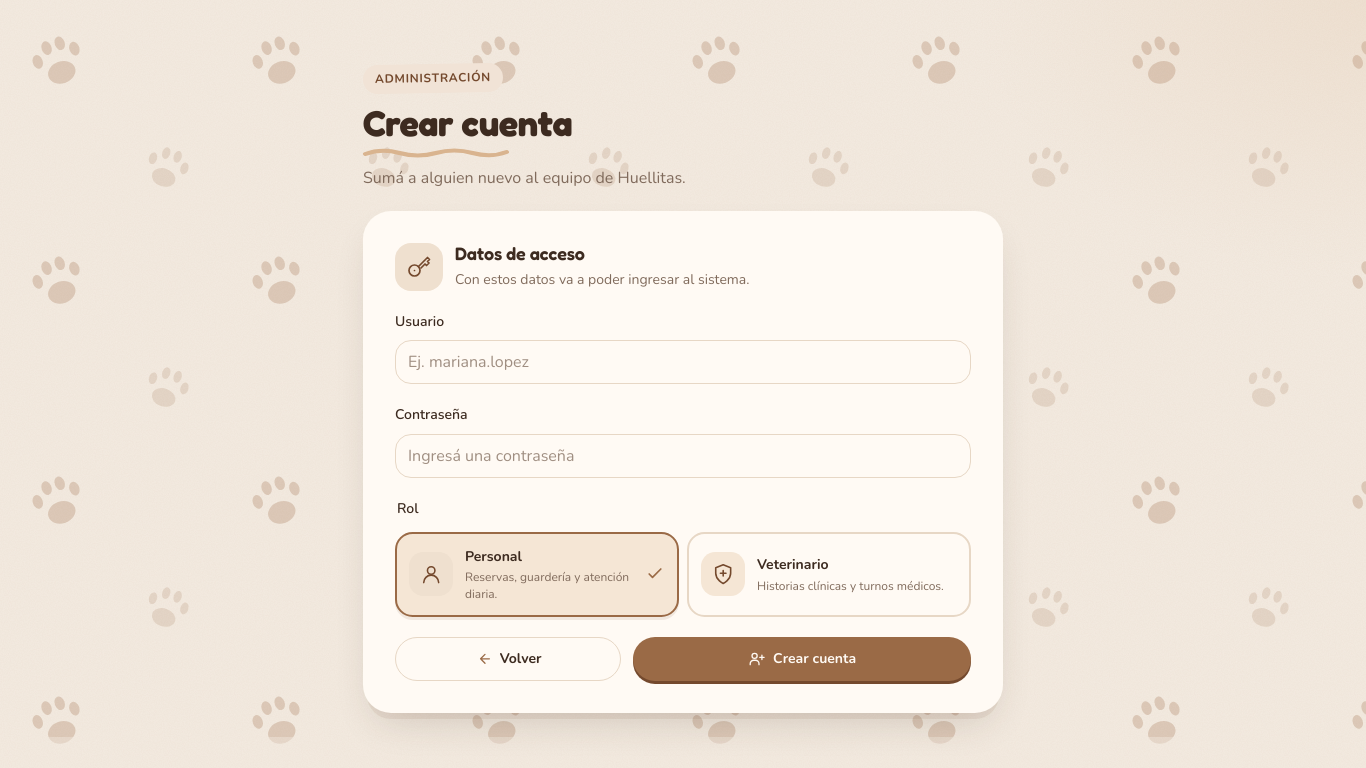
CrearCuentaPage › explica el error 422 del backend sin perder los datos
The width and height of the screenshot is (1366, 768).
In the field labelled "Usuario": (683, 362) [395,340,971,384], type "recepcion"
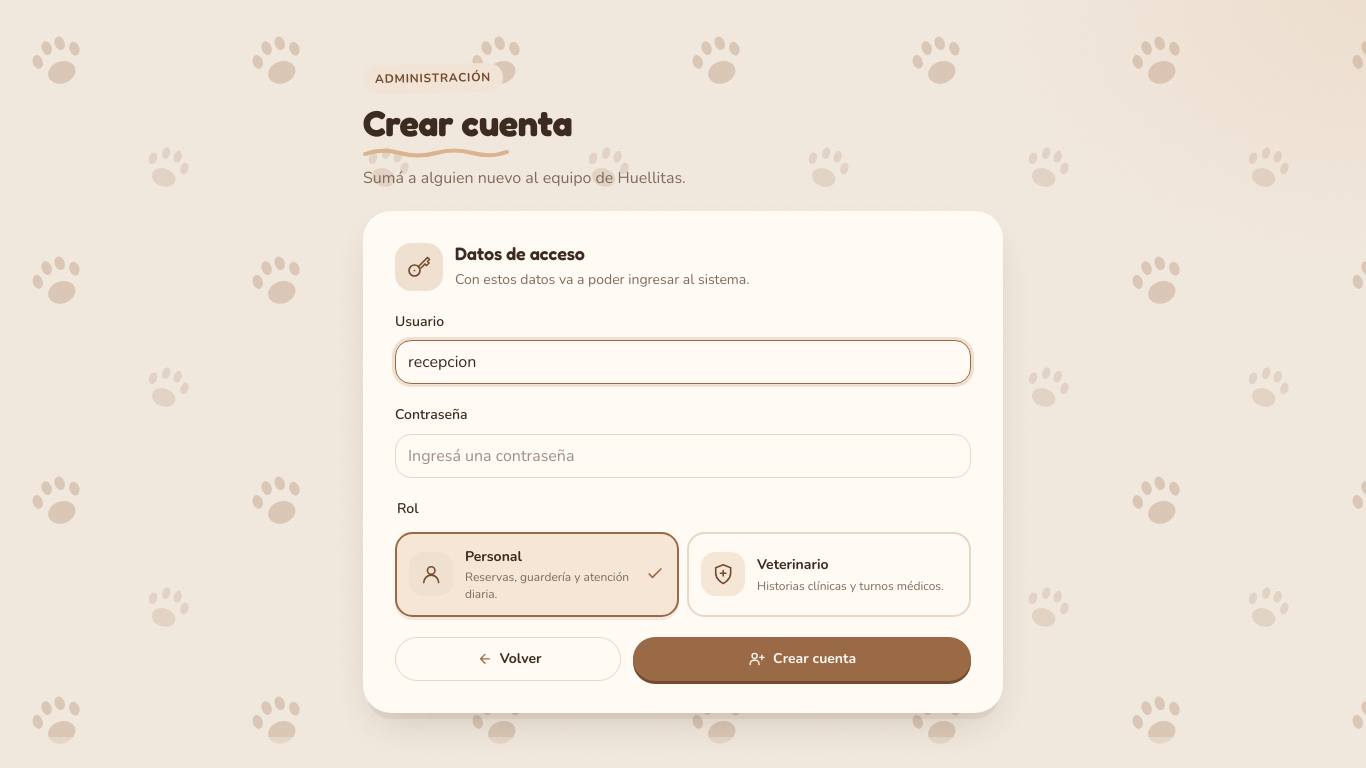
In the password field labelled "Contraseña": (683, 456) [395,434,971,478], type "clave-segura"
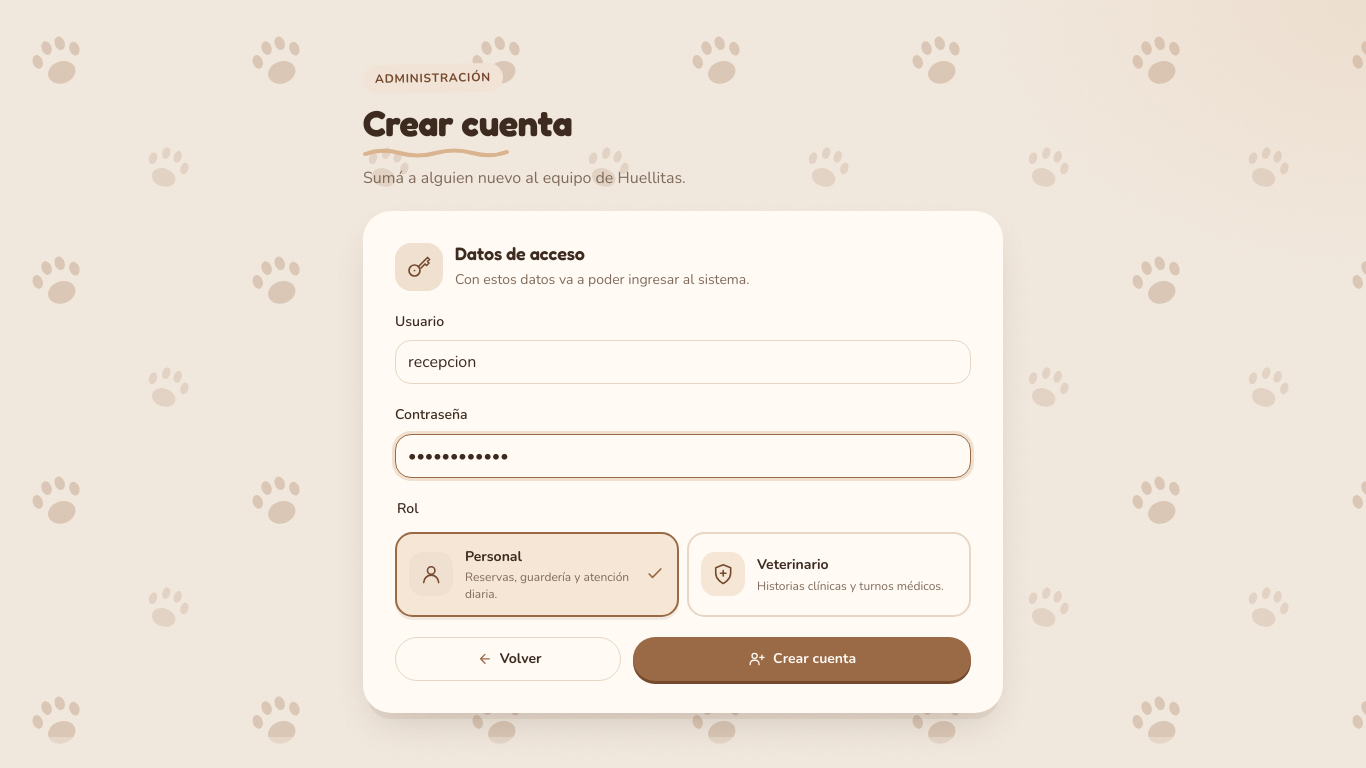
Click the button "Crear cuenta": (802, 659) [633,637,971,681]
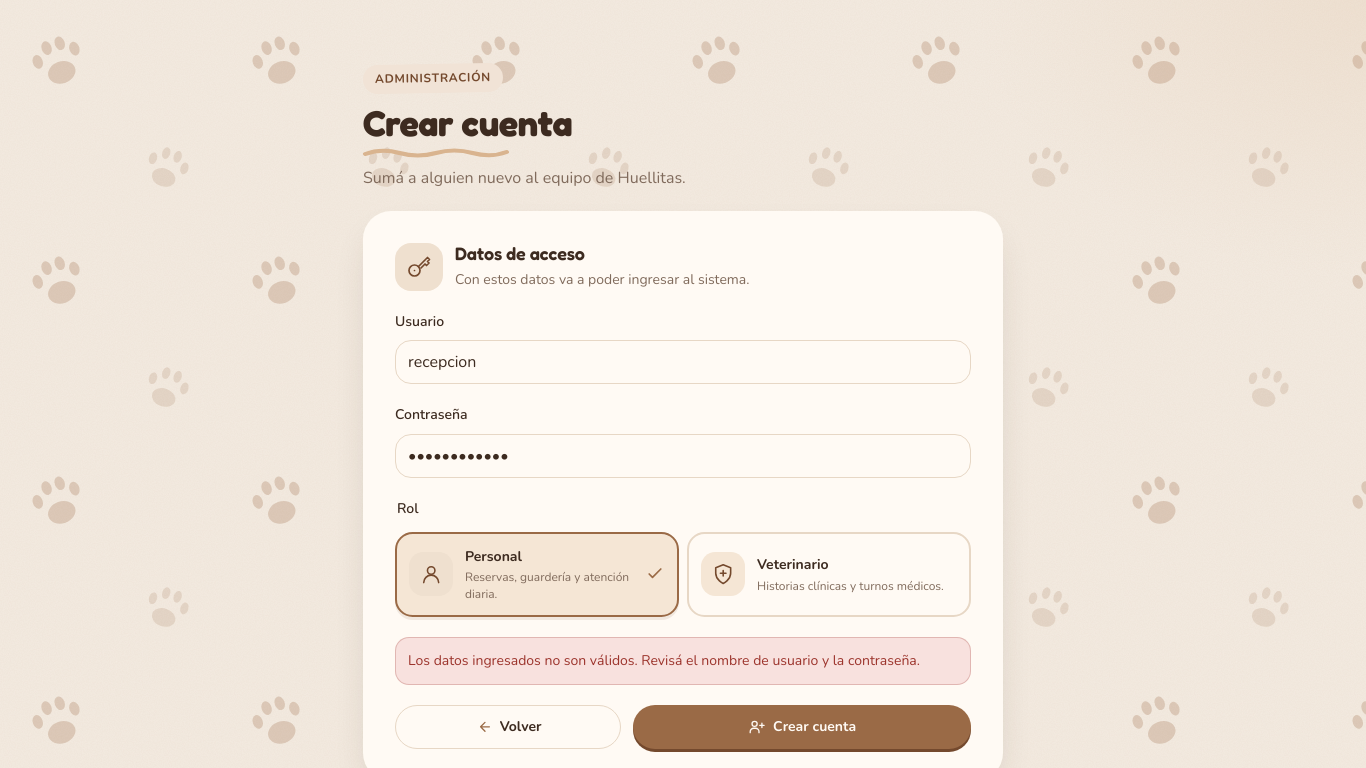
Expected: the button "Crear cuenta" is enabled, [633,705,971,749]
Expected: the message shows "Los datos ingresados no son válidos. Revisá el nombre de usuario y la contraseña.", [408,651,920,670]
